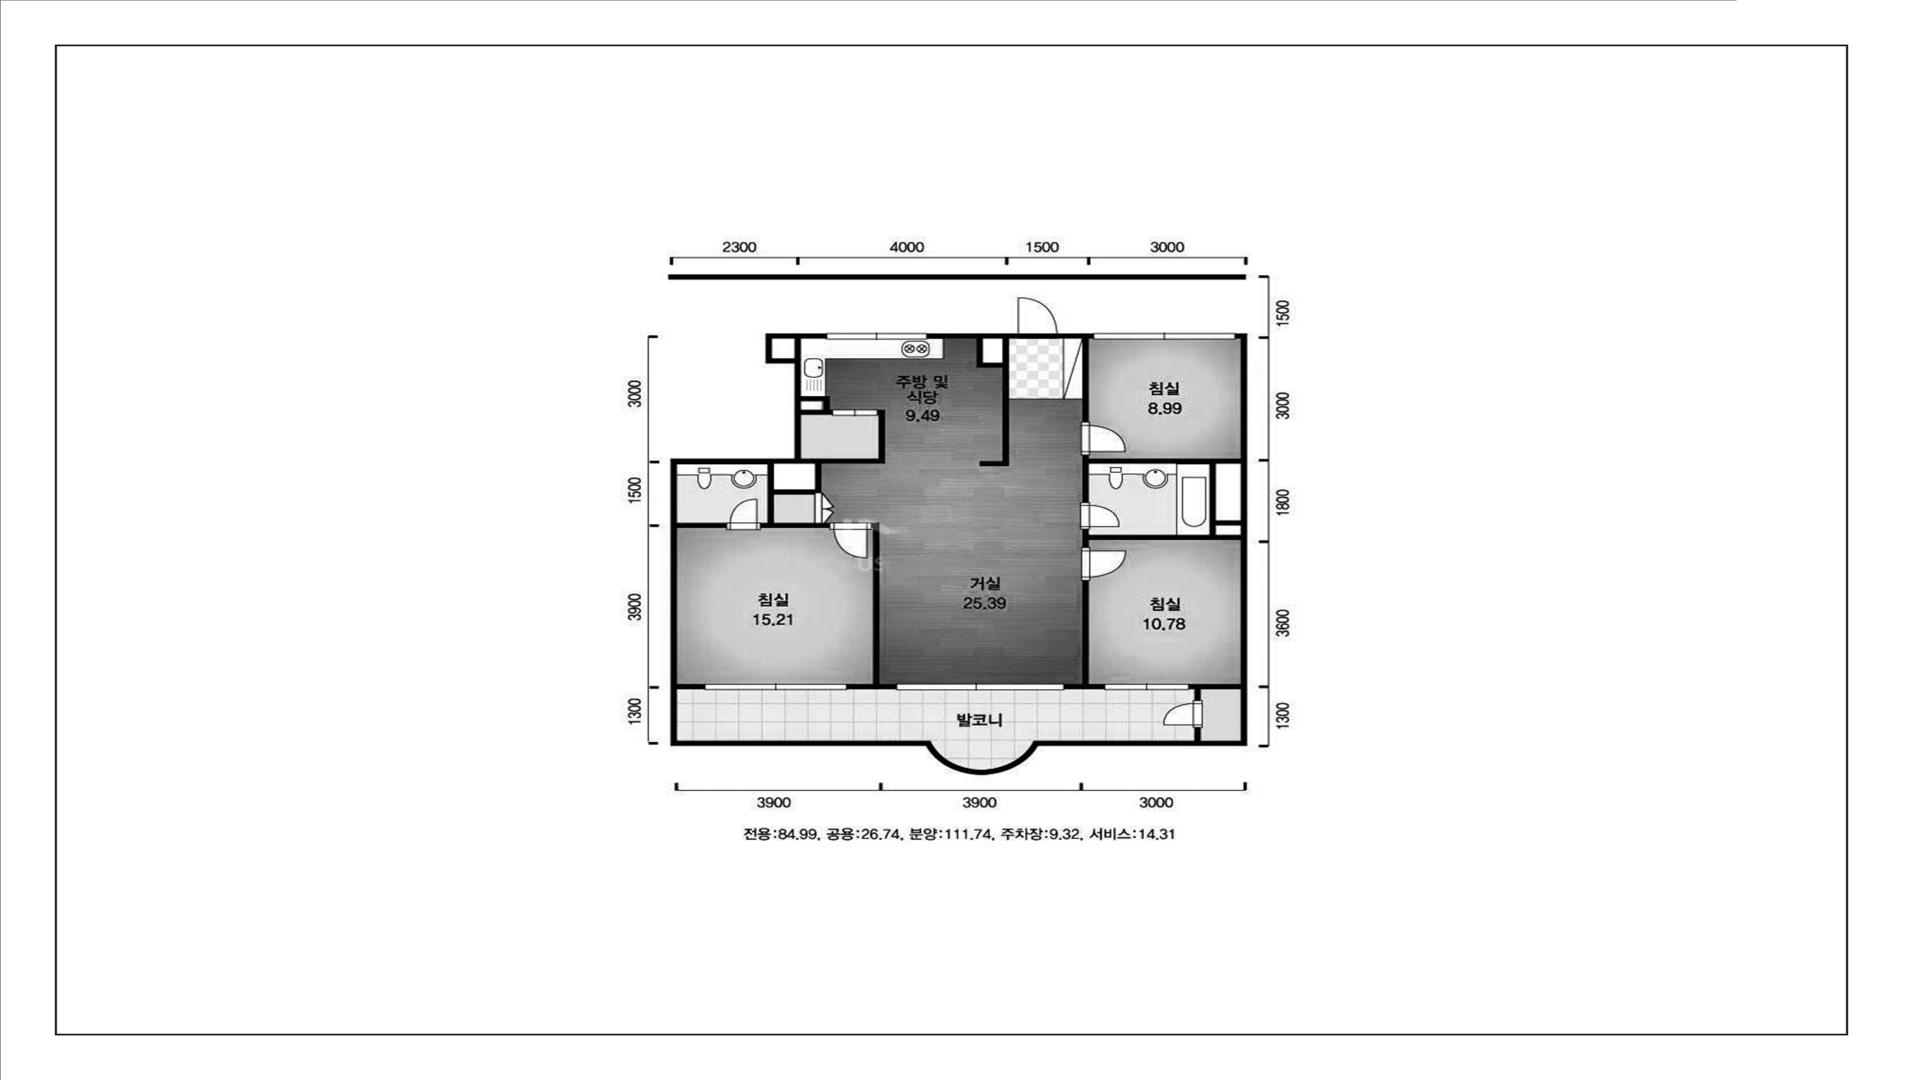door: (1017, 297, 1058, 339), (829, 522, 872, 559), (1081, 547, 1127, 580), (1081, 422, 1126, 455), (897, 683, 1064, 690), (1163, 700, 1203, 728), (727, 498, 761, 530), (1080, 502, 1120, 529), (705, 684, 847, 690), (1105, 684, 1189, 690), (833, 409, 877, 415)
wall: (671, 334, 1247, 775), (1083, 455, 1241, 547), (761, 410, 885, 527), (847, 522, 897, 690), (1064, 580, 1105, 690), (976, 339, 1009, 467), (766, 334, 795, 363), (1188, 684, 1241, 700), (800, 397, 833, 415), (1083, 339, 1089, 422), (927, 334, 1017, 339), (676, 524, 727, 527), (1058, 334, 1095, 339), (676, 684, 705, 690), (1195, 728, 1200, 741)
window: (1093, 334, 1236, 340), (827, 334, 927, 340)
